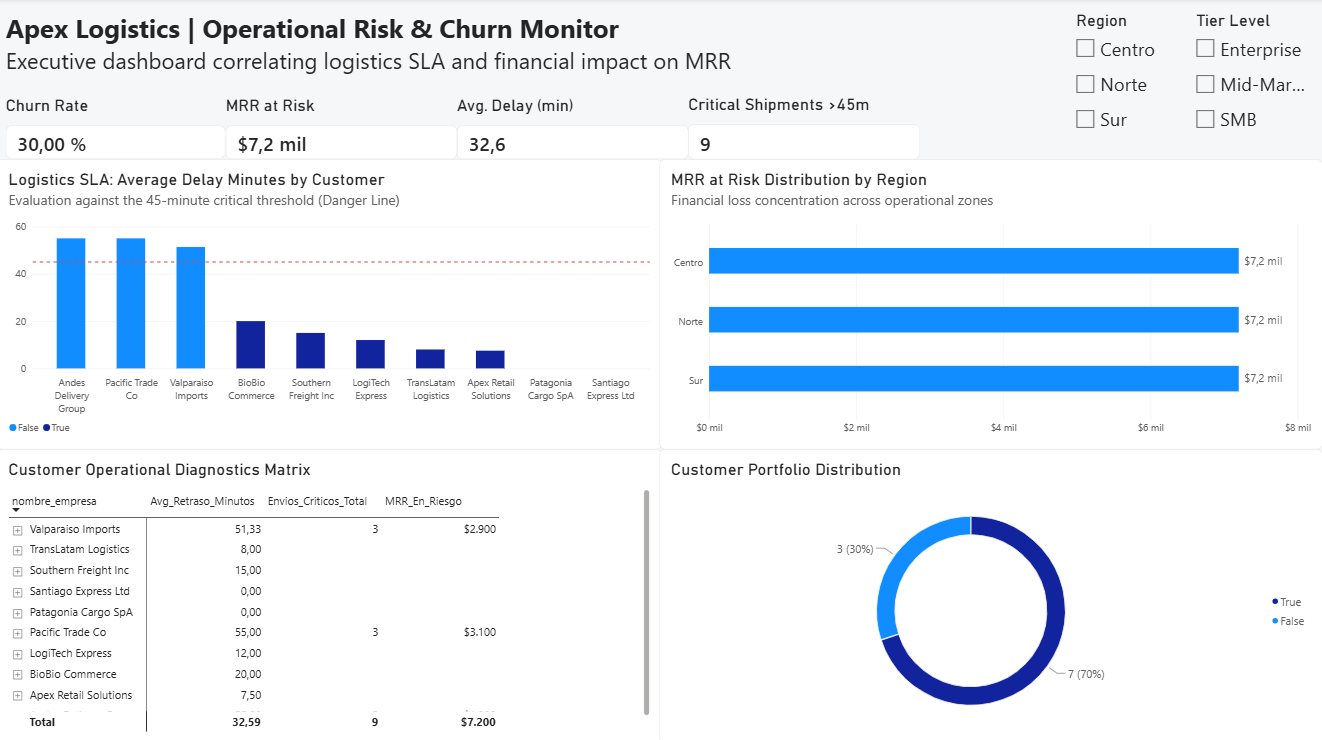

What the dashboard file says about the page in this screenshot:
{"tool":"powerbi","page":{"name":"Página 1","canvas":[1920,1080],"ordinal":0},"visuals":[{"type":"textbox","box":[12.7,18.1,1541.8,95.9],"z":0},{"type":"slicer","fields":{"Values":["dim_clientes.tier_level"]},"box":[1728.2,18.1,173.7,211.7],"z":1000},{"type":"slicer","fields":{"Values":["fact_envios.zona"]},"box":[1554.5,18.1,173.7,215.3],"z":2000},{"type":"cardVisual","title":"Churn Rate","fields":{"Data":["_medidas.Tasa_Churn"]},"box":[12.7,141.2,318,92],"z":3000},{"type":"cardVisual","title":"MRR at Risk","fields":{"Data":["_medidas.MRR_En_Riesgo"]},"box":[331.2,141.2,335.5,92.6],"z":4000},{"type":"cardVisual","title":"Avg. Delay (min)","fields":{"Data":["_medidas.Avg_Retraso_Minutos"]},"box":[666,141.2,335.5,92.6],"z":5000},{"type":"cardVisual","title":"Critical Shipments >45m","fields":{"Data":["_medidas.Envios_Criticos_Total"]},"box":[1000.7,139.3,335.5,94.7],"z":6000},{"type":"columnChart","title":"Logistics SLA: Average Delay Minutes by Customer","fields":{"Category":["dim_clientes.nombre_empresa"],"Series":["dim_clientes.is_active"],"Y":["_medidas.Avg_Retraso_Minutos"]},"box":[0,234,962,420],"z":7000},{"type":"barChart","title":"MRR at Risk Distribution by Region","fields":{"Category":["fact_envios.zona"],"Y":["_medidas.MRR_En_Riesgo"]},"box":[960,234,960,420],"z":8000},{"type":"pivotTable","title":"Customer Operational Diagnostics Matrix","fields":{"Rows":["dim_clientes.nombre_empresa","dim_clientes.tier_level","dim_clientes.is_active"],"Values":["_medidas.Avg_Retraso_Minutos","_medidas.Envios_Criticos_Total","_medidas.MRR_En_Riesgo"]},"box":[0,654,962,426],"z":9000},{"type":"donutChart","title":"Customer Portfolio Distribution","fields":{"Category":["dim_clientes.is_active"],"Y":["CountNonNull(dim_clientes.cliente_id)"]},"box":[960,654,960,426],"z":10000}]}

Visuals, with their boxes in screenshot pixels (x1, y1, x2, y2), scaled from the page's 1920x1080 canvas onto the 1322x740 screenshot:
textbox: region(9, 12, 1070, 78)
slicer - dim_clientes.tier_level: region(1190, 12, 1310, 157)
slicer - fact_envios.zona: region(1070, 12, 1190, 160)
"Churn Rate" cardVisual: region(9, 97, 228, 160)
"MRR at Risk" cardVisual: region(228, 97, 459, 160)
"Avg. Delay (min)" cardVisual: region(459, 97, 690, 160)
"Critical Shipments >45m" cardVisual: region(689, 95, 920, 160)
"Logistics SLA: Average Delay Minutes by Customer" columnChart: region(0, 160, 662, 448)
"MRR at Risk Distribution by Region" barChart: region(661, 160, 1321, 448)
"Customer Operational Diagnostics Matrix" pivotTable: region(0, 448, 662, 739)
"Customer Portfolio Distribution" donutChart: region(661, 448, 1321, 739)
